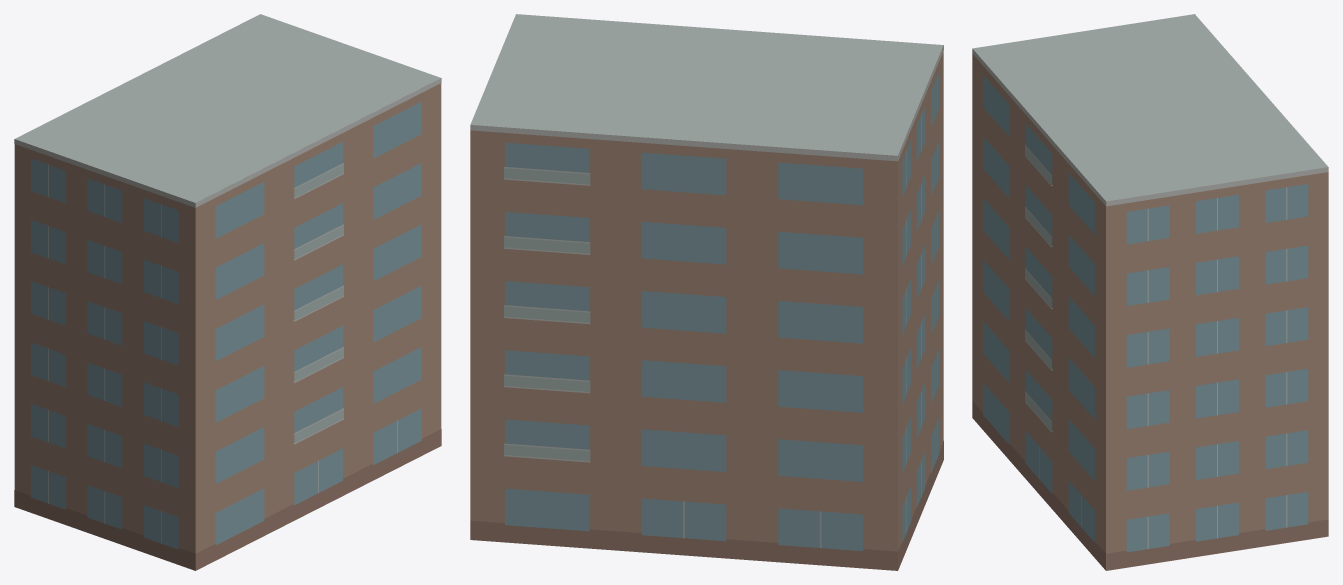
The model's file is survey-upis-32865236.glb.
3 views of the same model, side by side, from view 1: azimuth 30°, elevation 25°; view 2: azimuth 150°, elevation 25°; view 3: azimuth 270°, elevation 25° (orthographic). The views are drawn at different scales.
Visible parts, largest first — view 1: survey-upis-32865236.tmp; view 2: survey-upis-32865236.tmp; view 3: survey-upis-32865236.tmp.
Boxes of the visible parts, x1,y1,x2,y2 form: survey-upis-32865236.tmp: [14, 14, 441, 570]; survey-upis-32865236.tmp: [470, 14, 943, 570]; survey-upis-32865236.tmp: [972, 14, 1328, 570].
Size of the model in its own units: 19.93 by 18.3 by 16.01.
